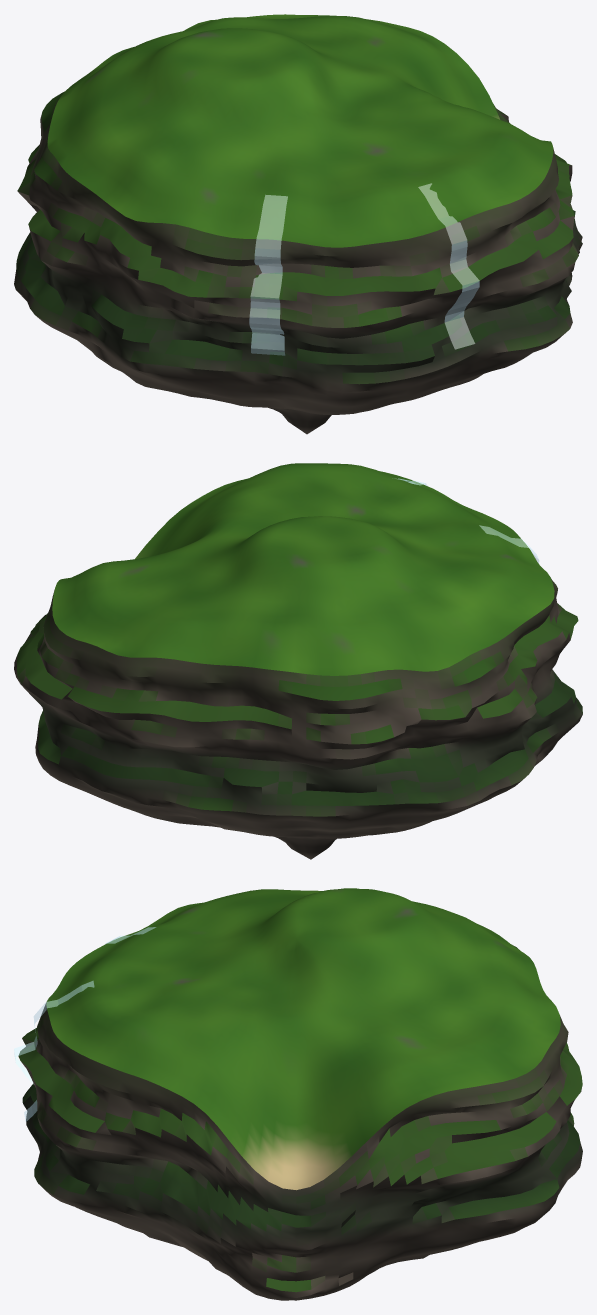
File: Island.glb
3 views of the same model, one above another, from view 1: azimuth 30°, elevation 25°; view 2: azimuth 150°, elevation 25°; view 3: azimuth 270°, elevation 25° (orthographic). The views are drawn at different scales.
Visible parts, largest first — view 1: Island, Waterfall_A, Waterfall_B; view 2: Island; view 3: Island, Waterfall_B.
Part boxes in pixels (x1,y1,x2,y2): Island: [14, 14, 582, 434]; Waterfall_A: [249, 195, 287, 355]; Waterfall_B: [418, 183, 479, 349]; Island: [14, 463, 582, 859]; Island: [18, 888, 582, 1300]; Waterfall_B: [14, 981, 94, 1121].
Bounding box in the file's own units: 34.5 × 24.7 × 35.84.
